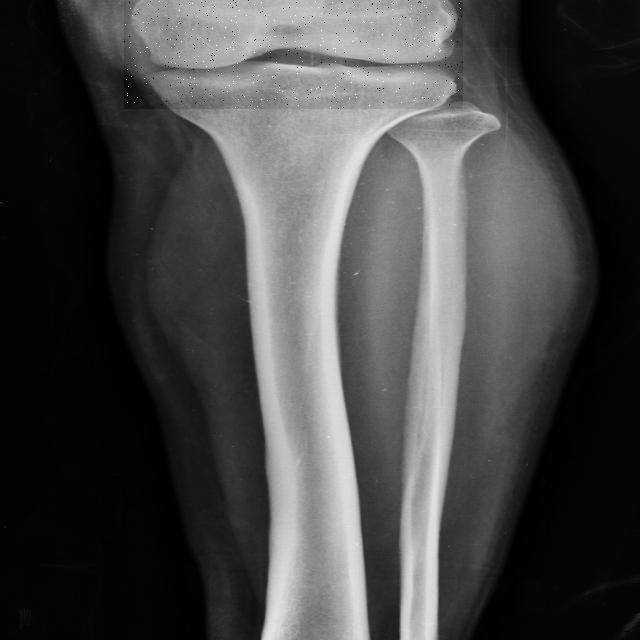normal: (124, 0, 463, 109)
